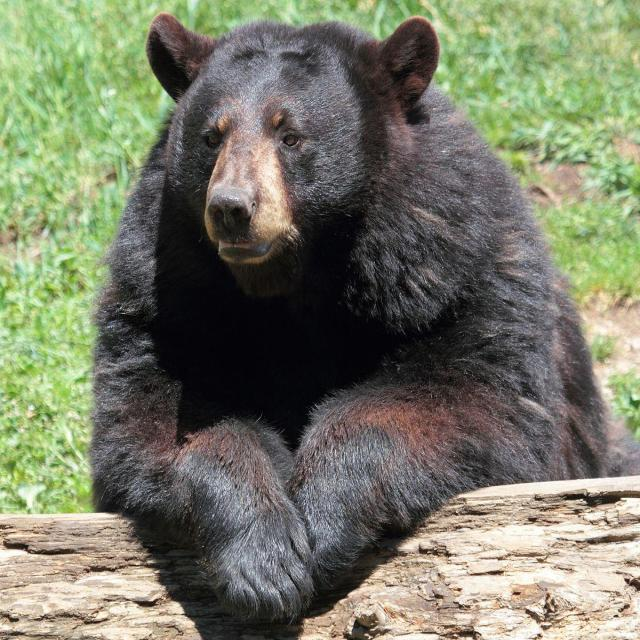Bear: (89, 13, 640, 635)
